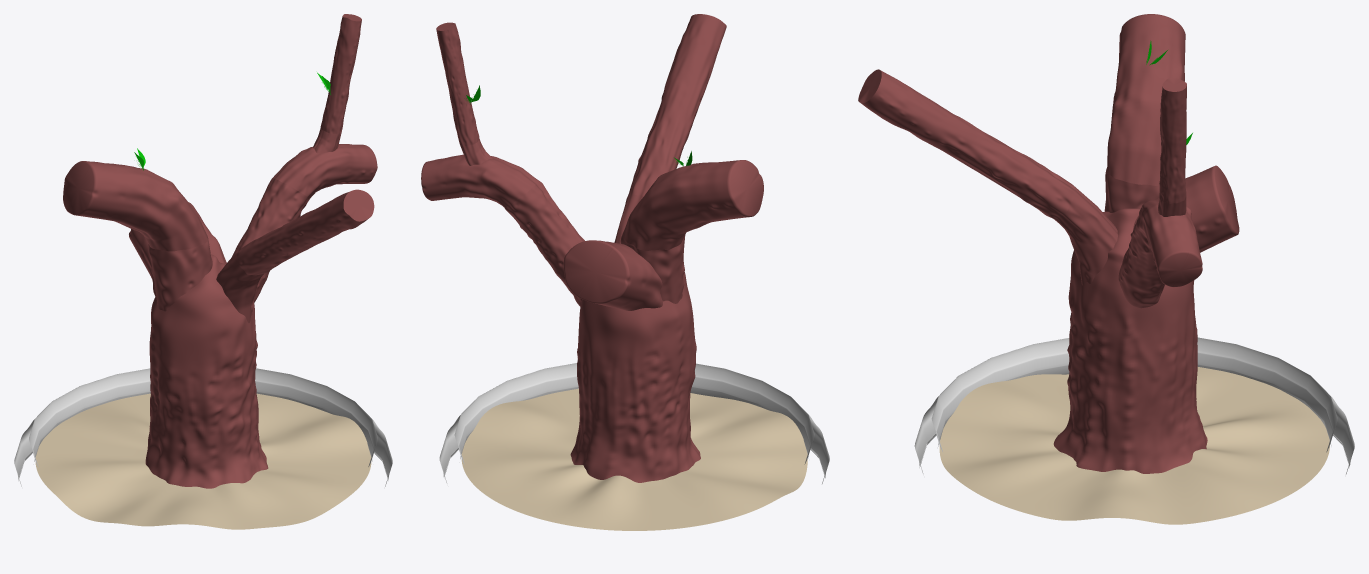
Rendered from Tree-Trunk.glb.
The picture shows the model from 3 angles, left to right: view 1: azimuth 30°, elevation 25°; view 2: azimuth 150°, elevation 25°; view 3: azimuth 270°, elevation 25°; orthographic projection. The views are drawn at different scales.
Parts seen in each view (by area): view 1: tree.1, Disc, edge for water; view 2: tree.1, Disc, edge for water; view 3: tree.1, Disc, edge for water.
Part boxes in pixels (x1=…): tree.1: x1=63, y1=14, x2=377, y2=488; Disc: x1=35, y1=393, x2=371, y2=529; edge for water: x1=14, y1=368, x2=392, y2=486; tree.1: x1=421, y1=14, x2=763, y2=482; Disc: x1=461, y1=388, x2=807, y2=530; edge for water: x1=439, y1=363, x2=829, y2=483; tree.1: x1=858, y1=14, x2=1239, y2=473; Disc: x1=939, y1=367, x2=1329, y2=524; edge for water: x1=914, y1=337, x2=1354, y2=474.
Size of the model in its own units: 388 by 466 by 411.
